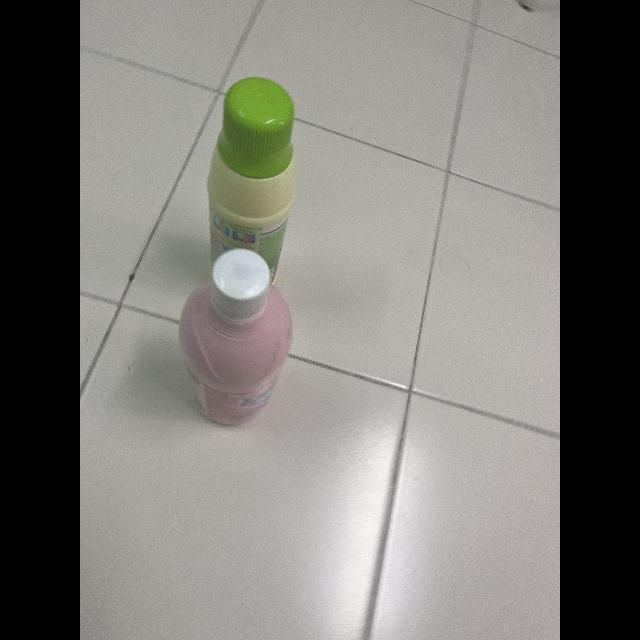chemical_plastic_bottle: (177, 247, 296, 427), (204, 74, 302, 286)
